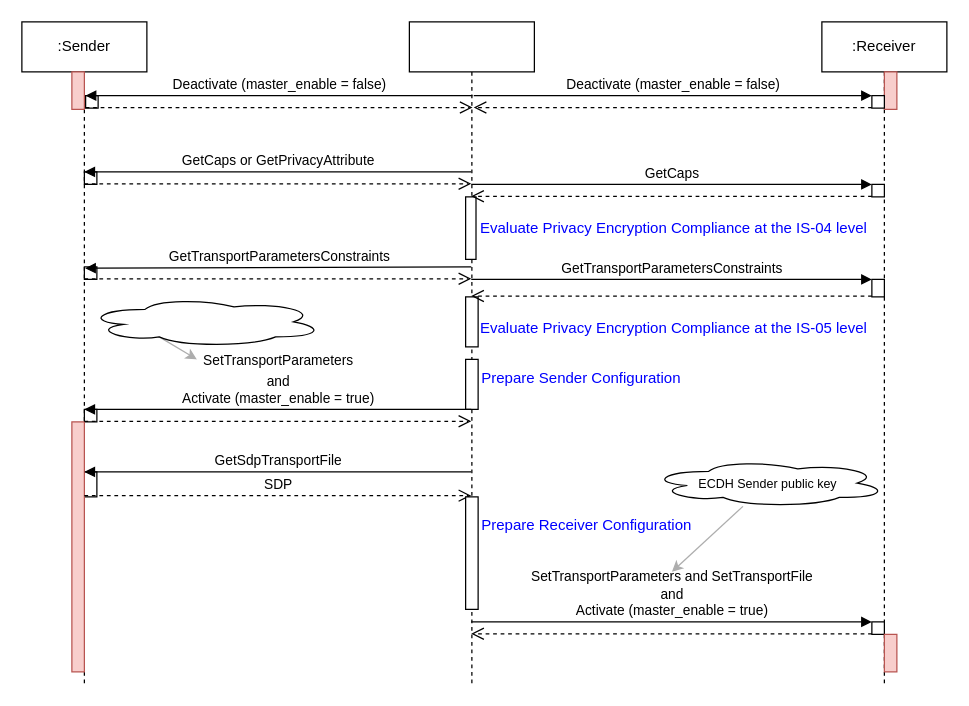
Some shapes in this 969 by 706 pixel diagram are drawn without their labels. The centre of each missing label's shape, as x and y in pixels:
:Controller: point (471, 352)
ECDH Receiver public key: point (203, 321)
